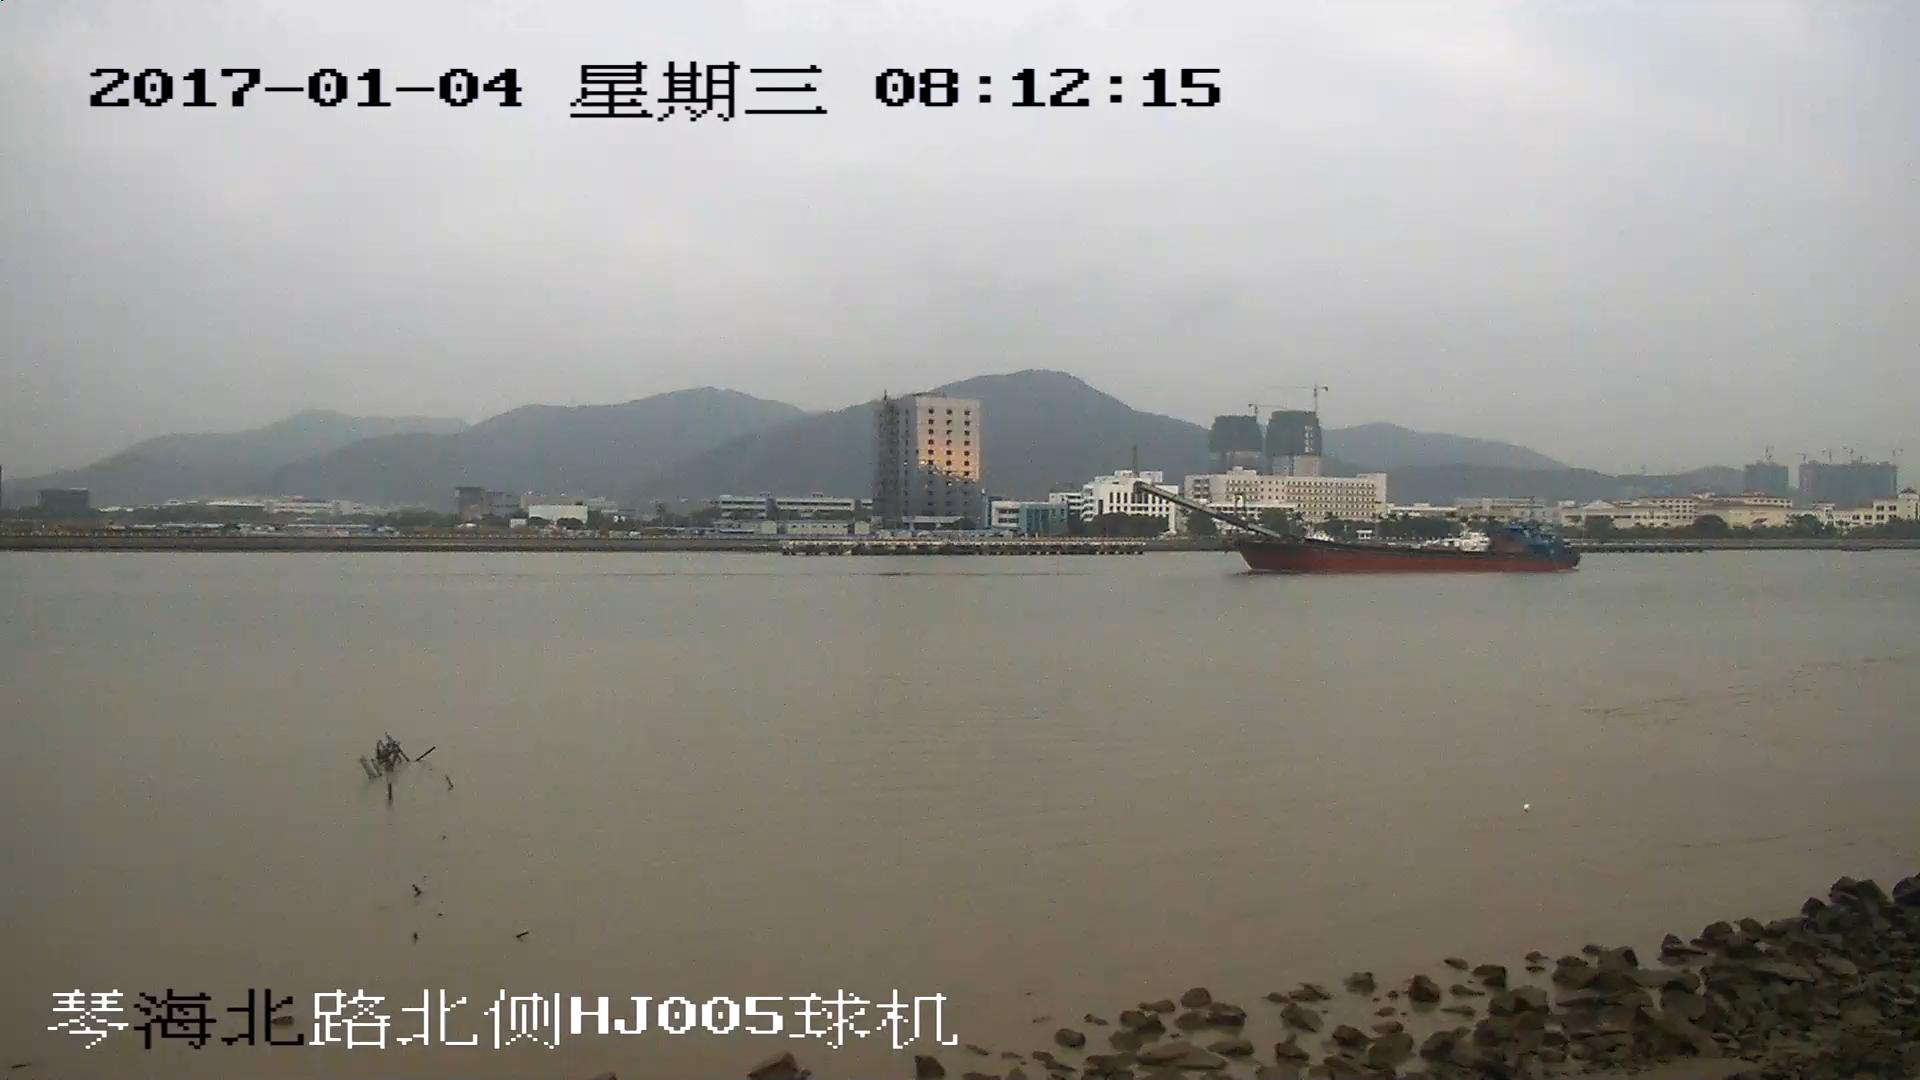bulk cargo carrier: (1142, 485, 1577, 572)
